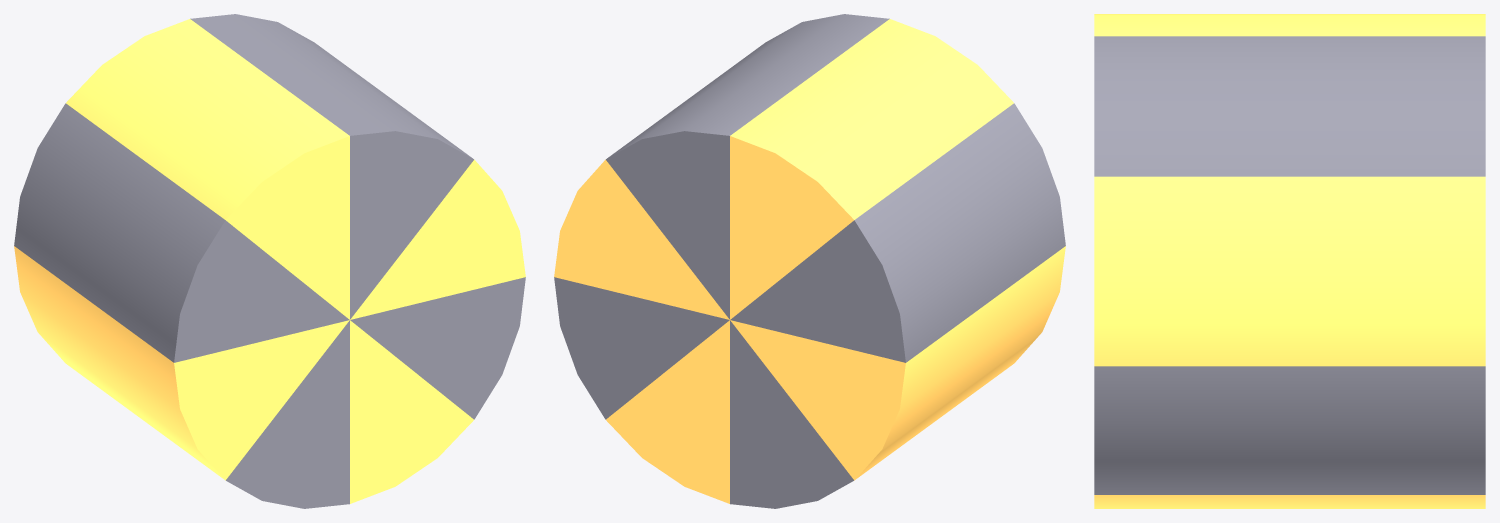
The picture shows the model from 3 angles, left to right: view 1: azimuth 30°, elevation 25°; view 2: azimuth 150°, elevation 25°; view 3: azimuth 270°, elevation 25°; orthographic projection. The views are drawn at different scales.
Parts seen in each view (by area): view 1: model_4; view 2: model_4; view 3: model_4.
Boxes of the visible parts, x1=… form: model_4: x1=14, y1=14, x2=525, y2=508; model_4: x1=554, y1=14, x2=1065, y2=508; model_4: x1=1094, y1=14, x2=1485, y2=508.
Size of the model in its own units: 0.1016 by 0.1016 by 0.08.
